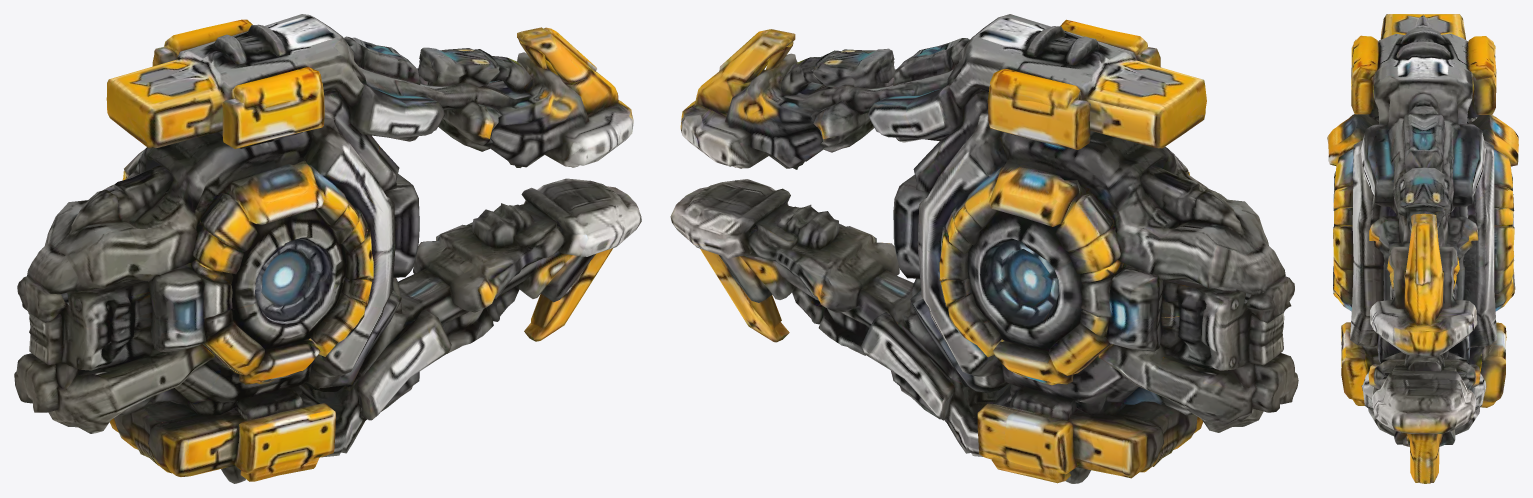
The model's file is mason-lean-1024-quantized.glb.
3 renders of one model, left to right at view 1: azimuth 30°, elevation 25°; view 2: azimuth 150°, elevation 25°; view 3: azimuth 270°, elevation 25°, orthographic. The views are drawn at different scales.
Parts seen in each view (by area): view 1: Mesh_0; view 2: Mesh_0; view 3: Mesh_0.
Boxes of the visible parts, left/top/right/bottom form: Mesh_0: left=14, top=14, right=641, bottom=483; Mesh_0: left=670, top=14, right=1298, bottom=483; Mesh_0: left=1327, top=14, right=1518, bottom=483.
Size of the model in its own units: 0.0846 by 0.06 by 0.0269.
Materials: 1 (1 with a texture image).
